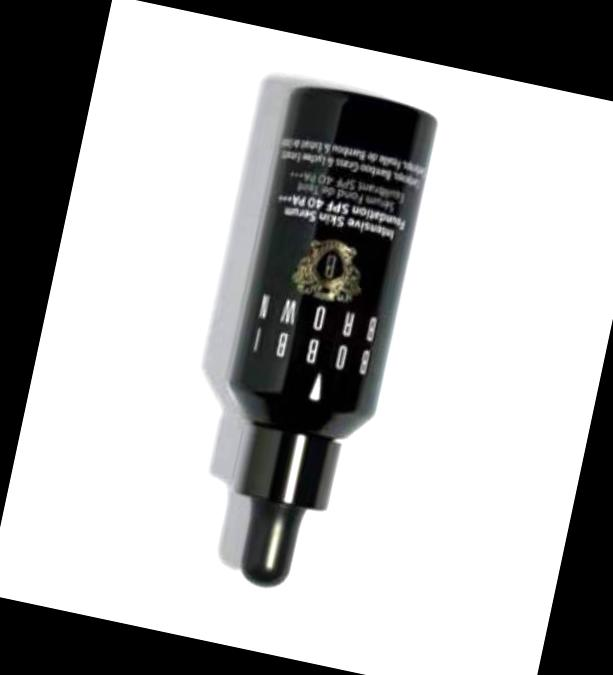cosmetic: (190, 90, 442, 603)
